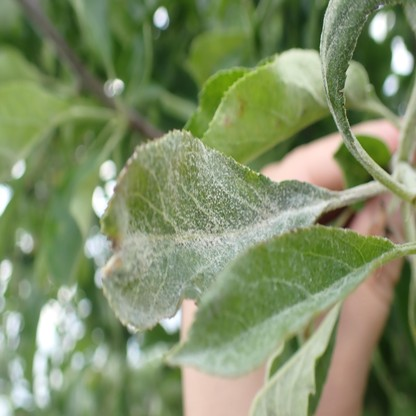powdery_mildew: (101, 130, 329, 329), (320, 0, 378, 148)
